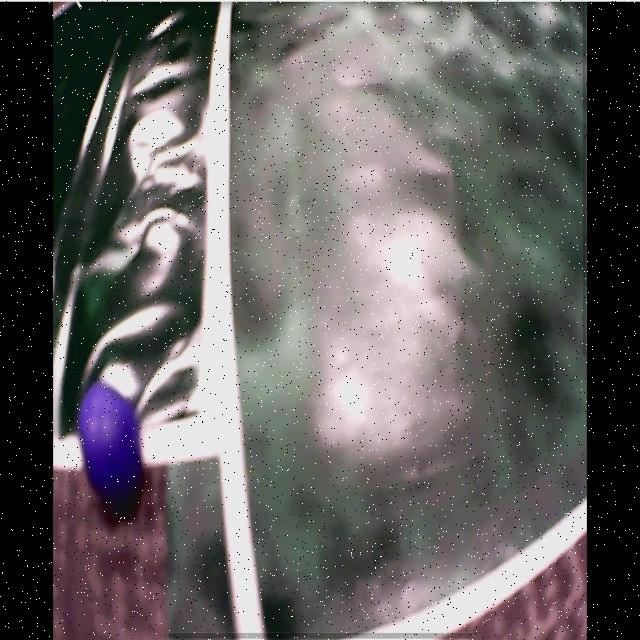ball: (81, 384, 139, 491)
